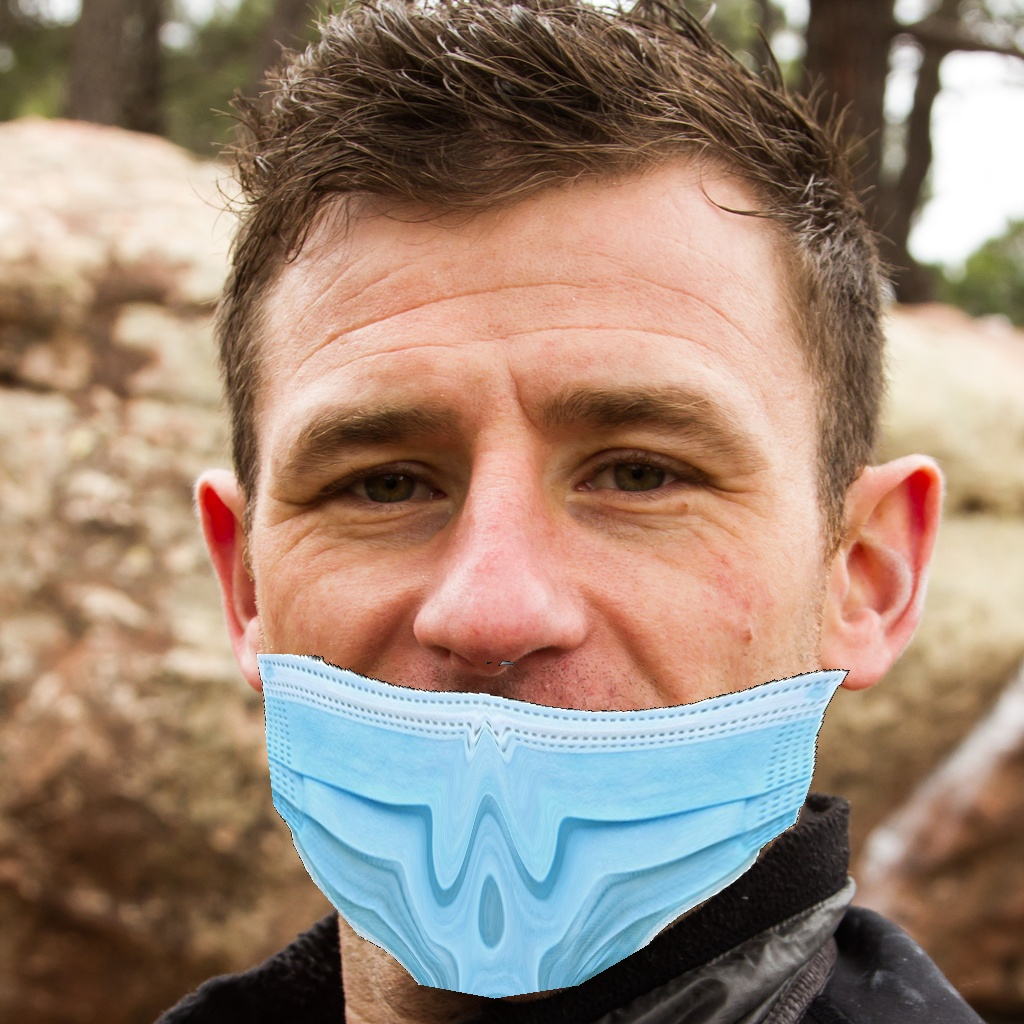mascarilla_mal_puesta: (209, 328, 899, 1003)
